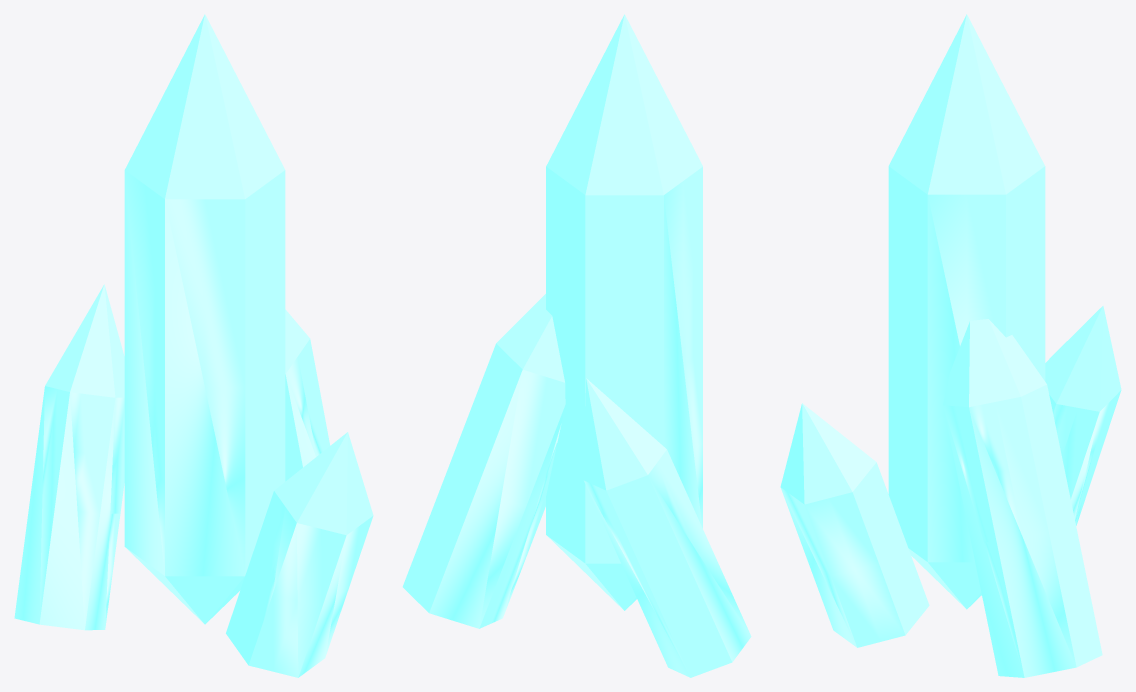
File: crystal_cluster.glb
The picture shows the model from 3 angles, left to right: view 1: azimuth 30°, elevation 25°; view 2: azimuth 150°, elevation 25°; view 3: azimuth 270°, elevation 25°; orthographic projection. The views are drawn at different scales.
Visible parts, largest first — view 1: CrystalShard0Shaft; view 2: CrystalShard0Shaft; view 3: CrystalShard0Shaft.
Part boxes in pixels (bbox=[...]): CrystalShard0Shaft: bbox=[14, 14, 373, 677]; CrystalShard0Shaft: bbox=[402, 14, 751, 677]; CrystalShard0Shaft: bbox=[780, 14, 1121, 677].
Bounding box in the file's own units: 1.3 × 2.39 × 1.22.
